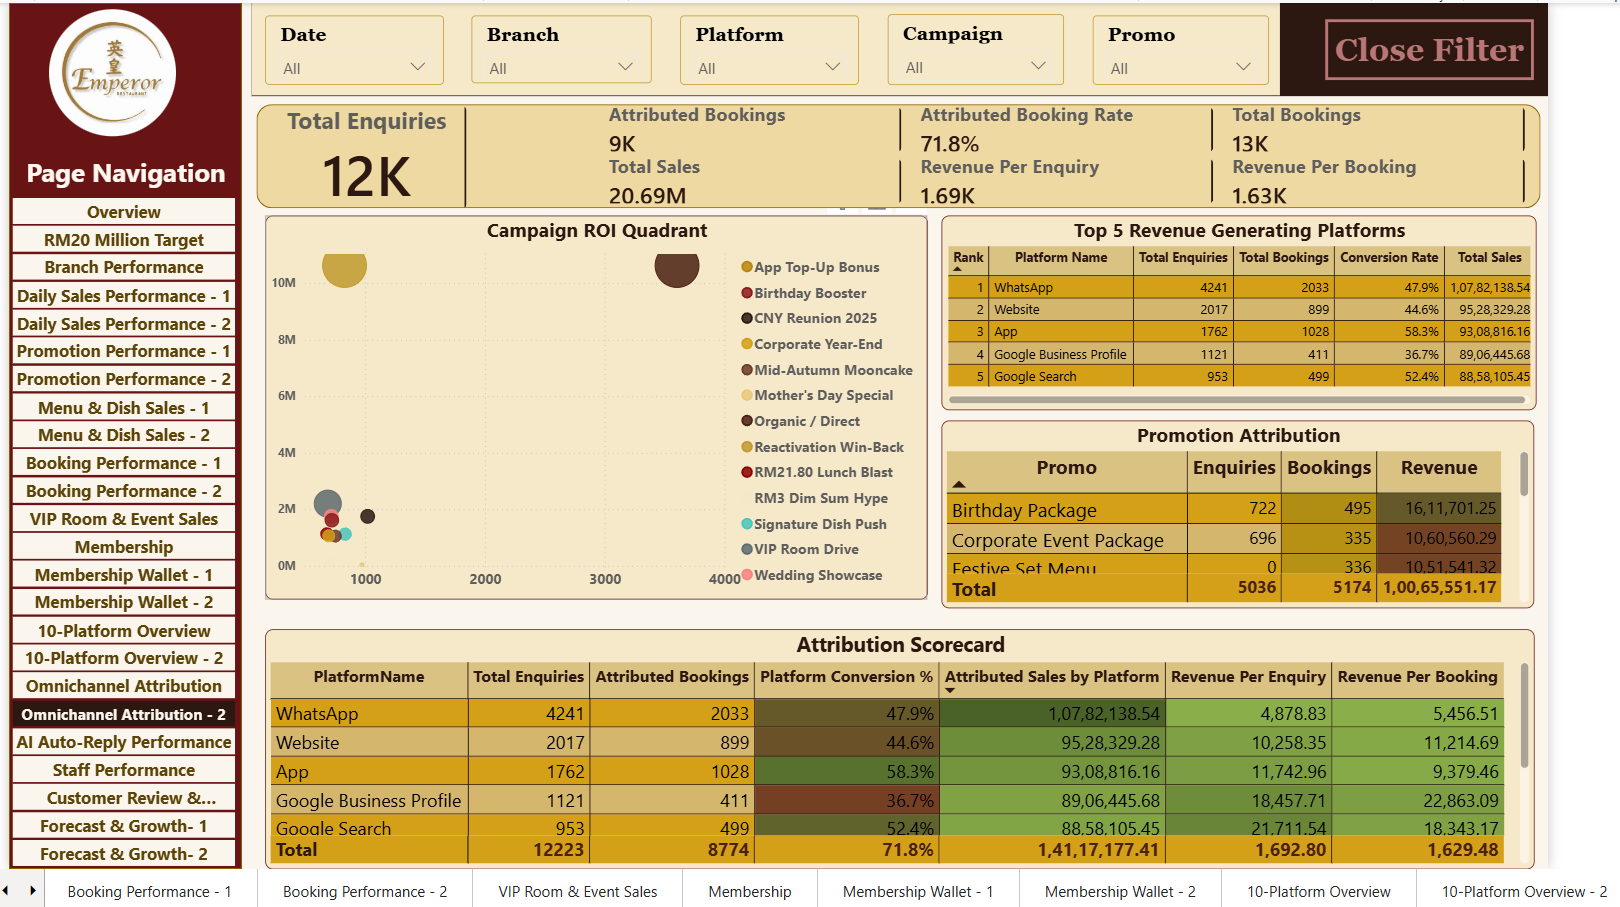

The page's visual inventory and layout, read from the dashboard file:
{"tool":"powerbi","page":{"name":"Omnichannel Attribution - 2","canvas":[1600,900],"ordinal":18},"visuals":[{"type":"scatterChart","title":"Campaign ROI Quadrant","fields":{"Category":["Dim_Campaign.CampaignName"],"Series":["Dim_Campaign.CampaignName"],"Size":["__DAX_Measures.Campaign Bookings Test"],"X":["__DAX_Measures.Total Enquiries"],"Y":["__DAX_Measures.Revenue by Campaign"]},"box":[265.7,220.5,688.7,399.5],"z":0},{"type":"tableEx","title":"Top 5 Revenue Generating Platforms","fields":{"Values":["__DAX_Measures.Platform Revenue Rank","Dim_Platform.PlatformName","__DAX_Measures.Total Enquiries","__DAX_Measures.Attributed Bookings","__DAX_Measures.Platform Conversion %","__DAX_Measures.Attributed Sales by Platform"]},"box":[968.8,220.5,618.2,202.4],"z":1000},{"type":"shape","box":[0,0,242,900],"z":2000},{"type":"shape","box":[257.3,104.6,1334.5,108.1],"z":3000},{"type":"cardVisual","fields":{"Data":["__DAX_Measures.Attributed Bookings","__DAX_Measures.Enquiry Conversion %","__DAX_Measures.Total Bookings","__DAX_Measures.Total Sales","__DAX_Measures.Revenue Per Enquiry","__DAX_Measures.Revenue Per Booking"]},"box":[600.3,97.8,986.3,123.5],"z":4000},{"type":"cardVisual","fields":{"Data":["__DAX_Measures.Total Enquiries"]},"box":[257.3,96.1,229.8,128.6],"z":5000},{"type":"pivotTable","title":"Attribution Scorecard","fields":{"Rows":["Dim_Platform.PlatformName"],"Values":["__DAX_Measures.Total Enquiries","__DAX_Measures.Attributed Bookings","__DAX_Measures.Platform Conversion %","__DAX_Measures.Attributed Sales by Platform","__DAX_Measures.Revenue Per Enquiry","__DAX_Measures.Revenue Per Booking"]},"box":[265.7,650.7,1319.5,249.4],"z":6000},{"type":"pivotTable","title":"Promotion Attribution","fields":{"Rows":["Dim_Promotion.PromoName"],"Values":["__DAX_Measures.Promotion Enquiries","__DAX_Measures.Promotion Bookings","__DAX_Measures.Promotion Revenue"]},"box":[968.8,433.8,616.4,195.2],"z":7000},{"type":"textbox","box":[251.5,0,1348.8,97],"z":8000},{"type":"shape","box":[252.1,0,1068.6,96.1],"z":9000},{"type":"slicer","fields":{"Values":["Dim_Date.Date"]},"box":[265.9,12.7,185.2,72],"z":10000},{"type":"slicer","fields":{"Values":["Dim_Branch.BranchName"]},"box":[481.1,13.6,187,70.3],"z":11000},{"type":"slicer","fields":{"Values":["Dim_Platform.PlatformName"]},"box":[698.1,12.7,185.2,72],"z":12000},{"type":"slicer","fields":{"Values":["Dim_Promotion.Promo Name"]},"box":[1126.9,12.7,183.5,72],"z":13000},{"type":"slicer","fields":{"Values":["Dim_Campaign.CampaignName"]},"box":[913.4,11.8,183.5,73.8],"z":14000},{"type":"actionButton","title":"C Button","box":[1368.3,16.3,216.9,63.3],"z":15000},{"type":"image","box":[41.9,6.2,131.9,131.9],"z":17000},{"type":"pageNavigator","box":[4.4,202.3,231.1,697.7],"z":18000},{"type":"textbox","box":[0,152.6,242.7,46.5],"z":19000}]}

Visuals, with their boxes on the page's 1600x900 design canvas (x1, y1, x2, y2). These are canvas units, not pixel positions in the 1620x907 screenshot, which may show the page scaled, cropped or inside an application window:
"Campaign ROI Quadrant" scatterChart: {"left": 266, "top": 220, "right": 954, "bottom": 620}
"Top 5 Revenue Generating Platforms" tableEx: {"left": 969, "top": 220, "right": 1587, "bottom": 423}
shape: {"left": 0, "top": 0, "right": 242, "bottom": 900}
shape: {"left": 257, "top": 105, "right": 1592, "bottom": 213}
cardVisual - __DAX_Measures.Attributed Bookings x __DAX_Measures.Enquiry Conversion %: {"left": 600, "top": 98, "right": 1587, "bottom": 221}
cardVisual - __DAX_Measures.Total Enquiries: {"left": 257, "top": 96, "right": 487, "bottom": 225}
"Attribution Scorecard" pivotTable: {"left": 266, "top": 651, "right": 1585, "bottom": 900}
"Promotion Attribution" pivotTable: {"left": 969, "top": 434, "right": 1585, "bottom": 629}
textbox: {"left": 252, "top": 0, "right": 1600, "bottom": 97}
shape: {"left": 252, "top": 0, "right": 1321, "bottom": 96}
slicer - Dim_Date.Date: {"left": 266, "top": 13, "right": 451, "bottom": 85}
slicer - Dim_Branch.BranchName: {"left": 481, "top": 14, "right": 668, "bottom": 84}
slicer - Dim_Platform.PlatformName: {"left": 698, "top": 13, "right": 883, "bottom": 85}
slicer - Dim_Promotion.Promo Name: {"left": 1127, "top": 13, "right": 1310, "bottom": 85}
slicer - Dim_Campaign.CampaignName: {"left": 913, "top": 12, "right": 1097, "bottom": 86}
"C Button" actionButton: {"left": 1368, "top": 16, "right": 1585, "bottom": 80}
image: {"left": 42, "top": 6, "right": 174, "bottom": 138}
pageNavigator: {"left": 4, "top": 202, "right": 236, "bottom": 900}
textbox: {"left": 0, "top": 153, "right": 243, "bottom": 199}
